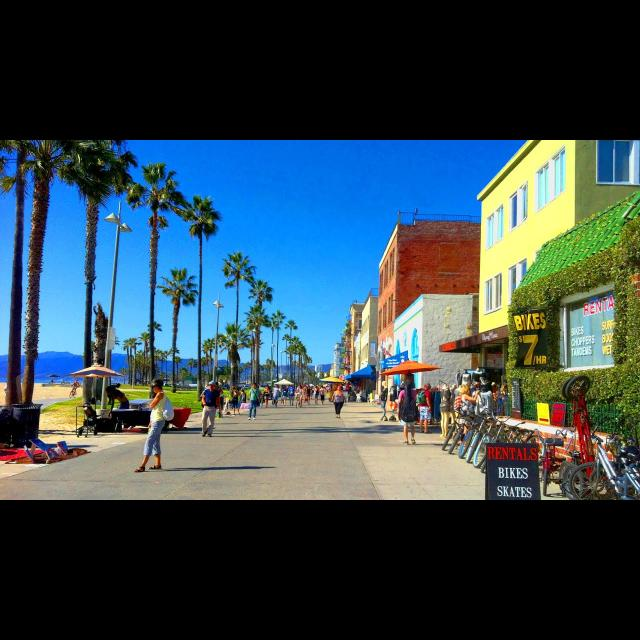head: (152, 378, 164, 394), (106, 386, 116, 396), (462, 386, 472, 396), (424, 383, 432, 391), (404, 381, 412, 389), (209, 382, 215, 391), (252, 383, 258, 389), (116, 384, 122, 388), (214, 382, 218, 388), (338, 386, 342, 392), (232, 387, 236, 391), (266, 386, 270, 390), (282, 387, 286, 391), (299, 385, 303, 389), (321, 386, 324, 389), (242, 389, 244, 393), (276, 384, 278, 388), (308, 385, 310, 389), (76, 381, 78, 384), (316, 386, 318, 389), (284, 388, 286, 390), (291, 385, 293, 387), (287, 386, 289, 388)
person: (132, 377, 176, 473), (457, 385, 481, 447), (397, 379, 419, 445), (200, 382, 222, 438), (105, 385, 131, 431), (415, 382, 433, 434), (208, 382, 224, 420), (246, 382, 262, 420), (332, 385, 348, 419), (105, 382, 122, 406), (230, 385, 242, 417), (295, 384, 305, 406), (70, 379, 80, 399), (272, 384, 280, 408), (263, 386, 271, 408), (288, 385, 296, 407), (240, 388, 248, 408), (319, 385, 327, 405), (312, 386, 320, 406), (304, 385, 312, 405), (281, 388, 289, 407), (281, 387, 287, 405), (286, 384, 292, 400)
